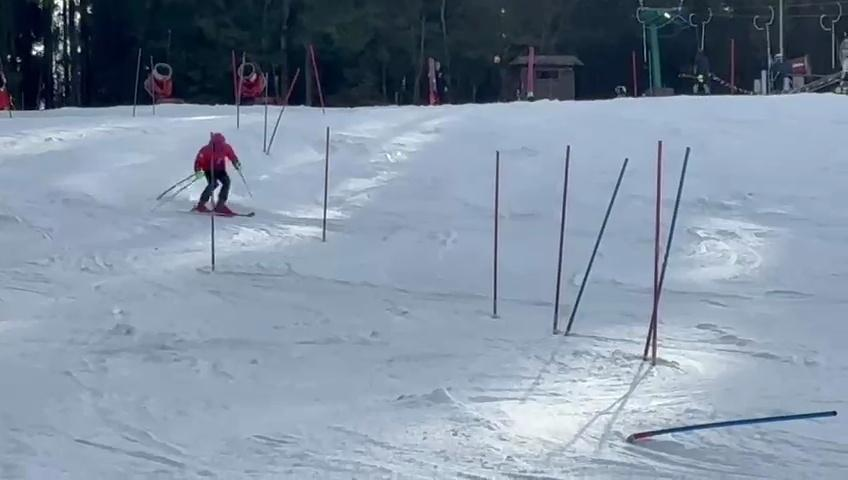gate: (607, 380, 840, 448), (570, 141, 631, 350), (552, 139, 574, 342), (650, 135, 668, 364), (485, 140, 506, 320), (265, 67, 306, 159), (206, 137, 224, 283), (318, 123, 338, 245), (307, 31, 329, 113), (124, 44, 145, 120), (258, 68, 270, 153), (145, 55, 158, 123)
